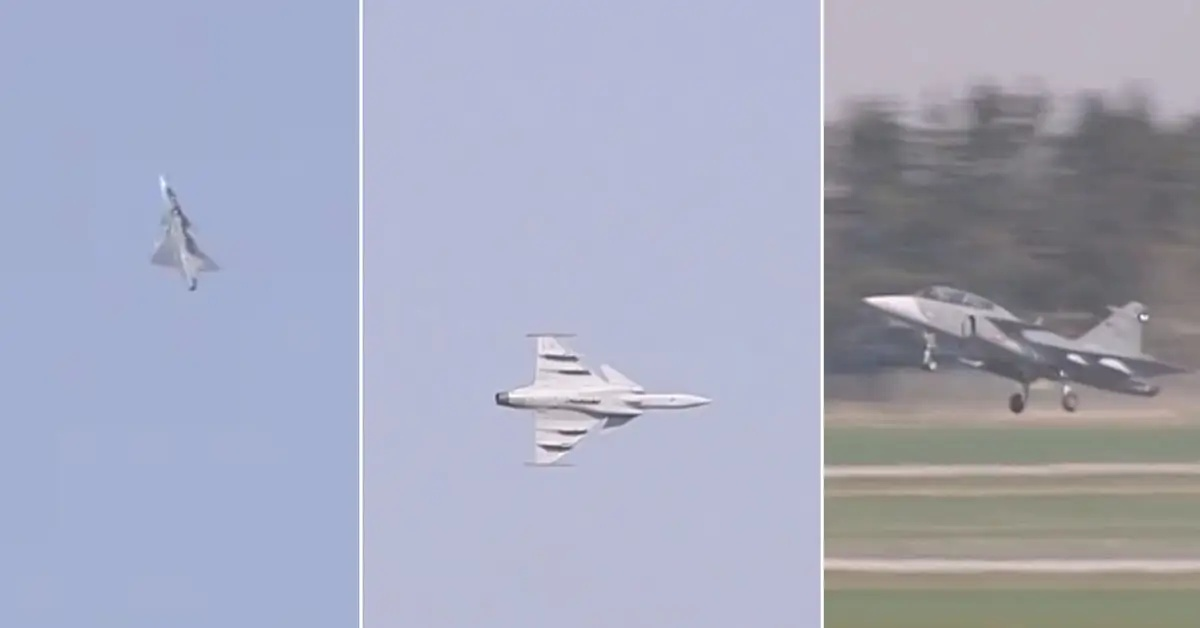JAS39: (856, 283, 1196, 415), (494, 331, 717, 468), (148, 169, 225, 293)
